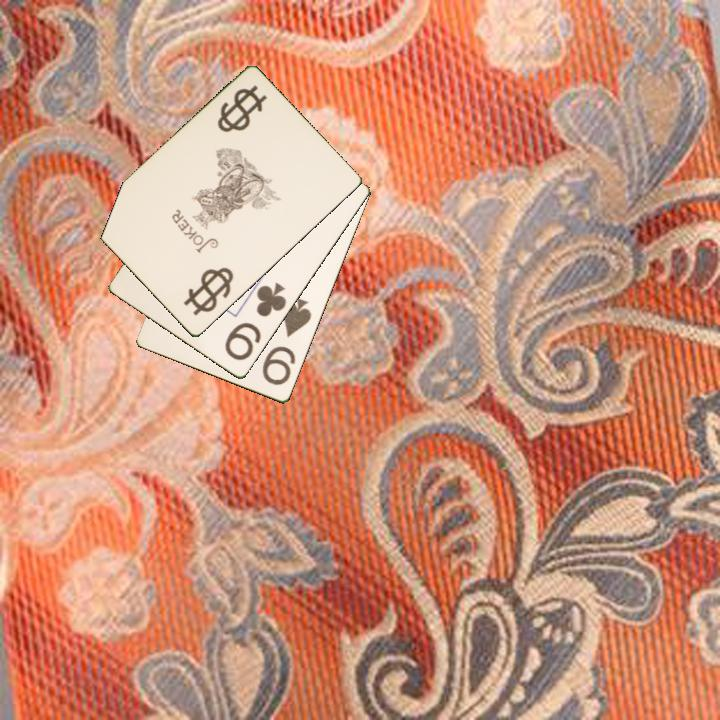9c: (221, 279, 290, 364)
9s: (259, 294, 315, 389)
JK: (214, 82, 270, 136), (190, 268, 233, 312)
